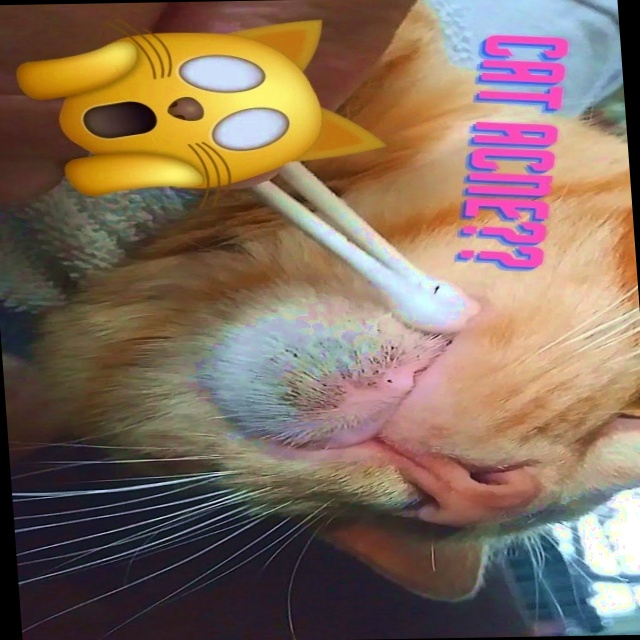acne: (241, 335, 412, 421)
